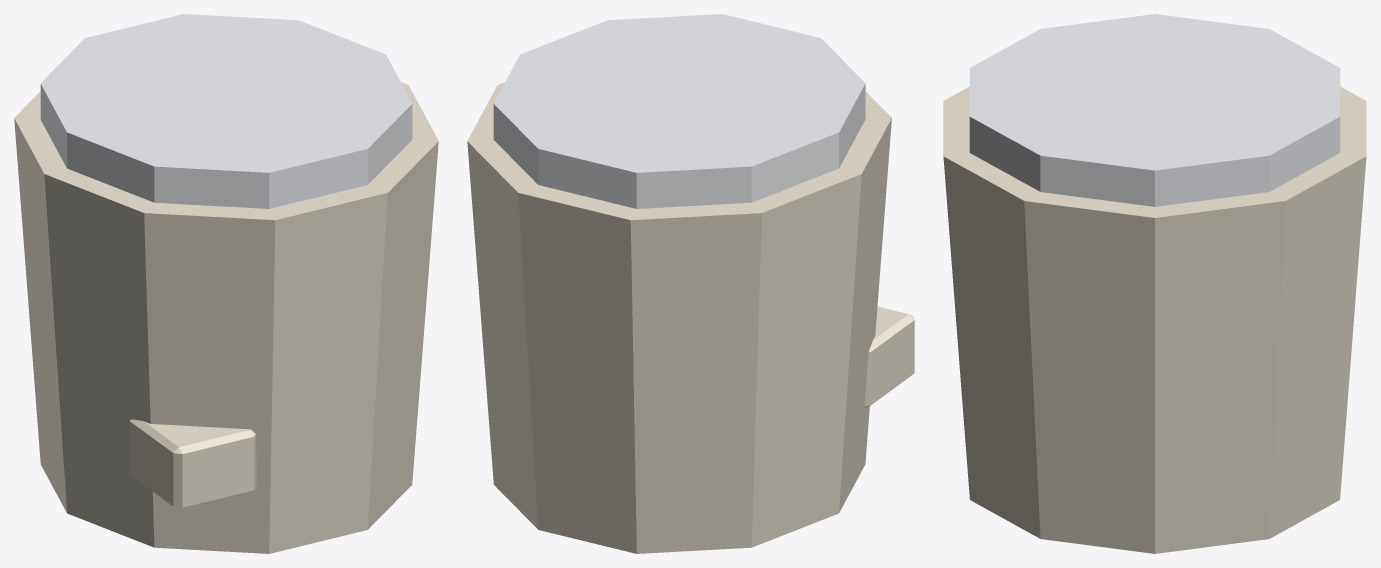
The model's file is b17_seamed_basketball.glb.
The picture shows the model from 3 angles, left to right: view 1: azimuth 30°, elevation 25°; view 2: azimuth 150°, elevation 25°; view 3: azimuth 270°, elevation 25°; orthographic projection.
Visible parts, largest first — view 1: b17_seamed_basketball; view 2: b17_seamed_basketball; view 3: b17_seamed_basketball.
Part boxes in pixels (box(x1,y1,x2,y2)): b17_seamed_basketball: box(14, 14, 438, 553); b17_seamed_basketball: box(467, 14, 914, 553); b17_seamed_basketball: box(943, 14, 1366, 553).
Bounding box in the file's own units: 0.243 × 0.243 × 0.243.
